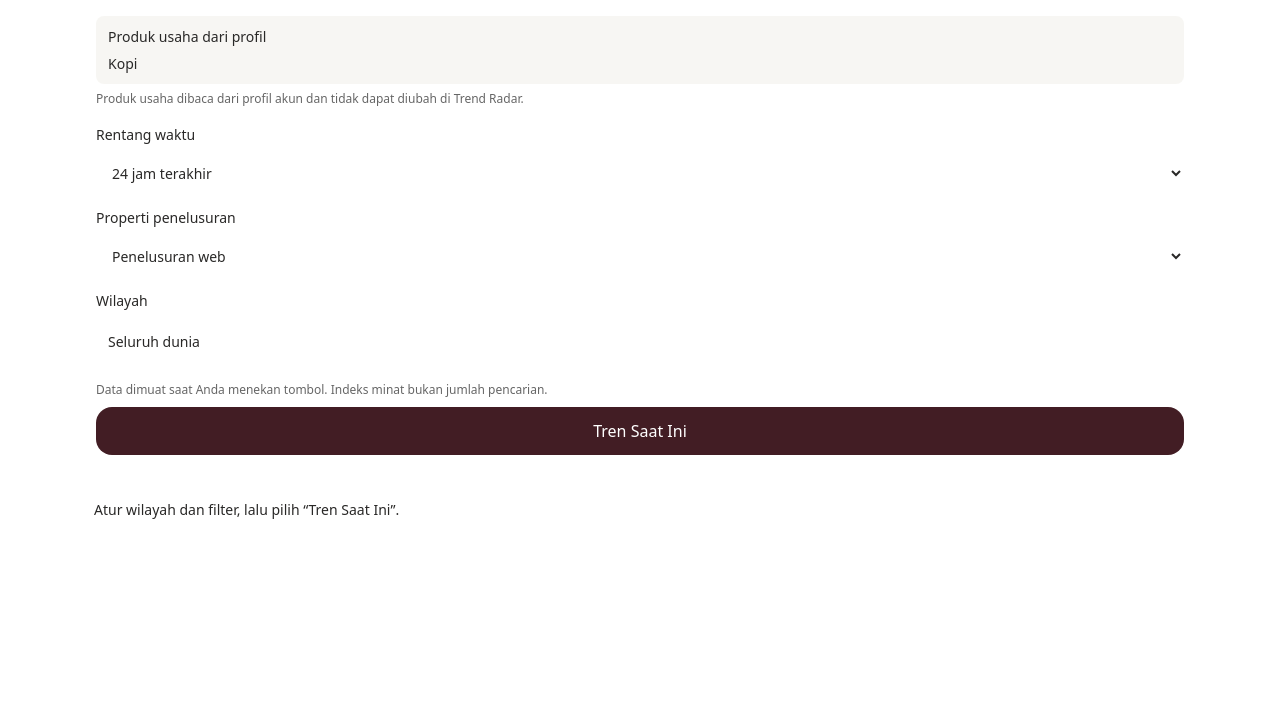
Test: TrendRadarPanel › shows loading state and prevents a duplicate request while one is active
Click the button "Tren Saat Ini": (640, 431) top-left (96, 407), bottom-right (1184, 455)
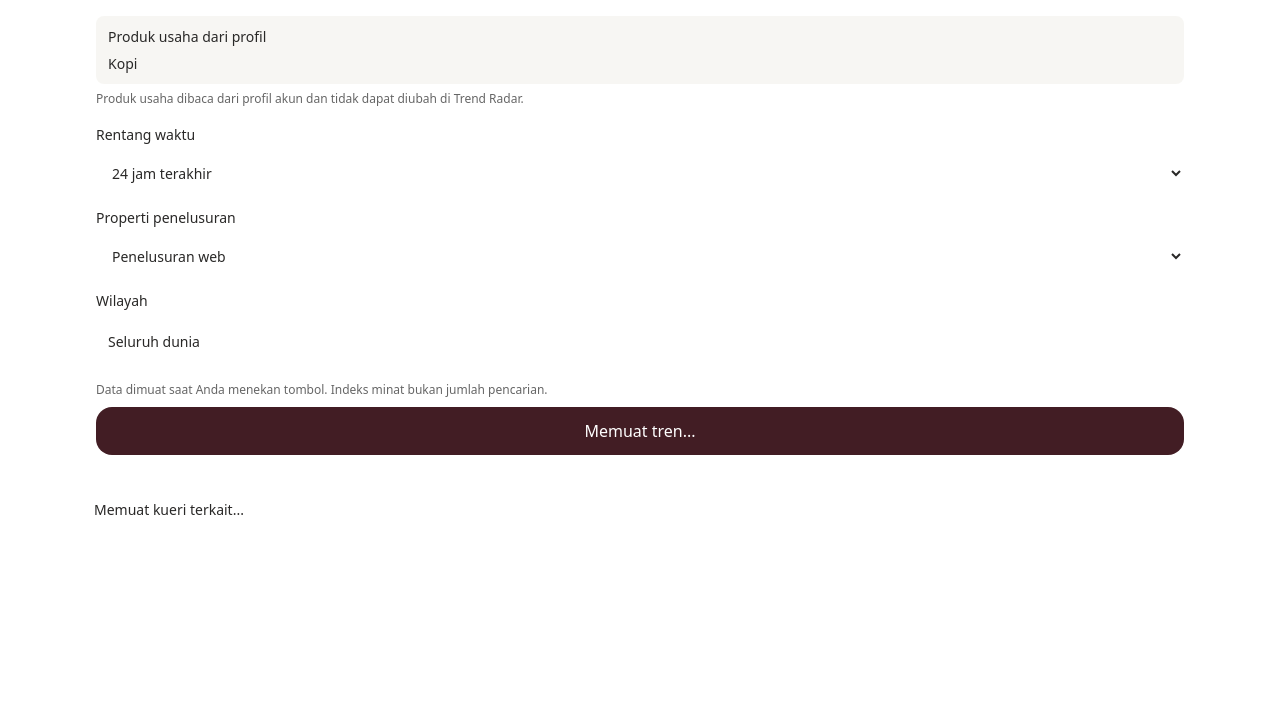
Now the button "Memuat tren..." is disabled
Now the text "Memuat kueri terkait..." is shown, box top-left (80, 487), bottom-right (1200, 532)
Click the button "Memuat tren...": (640, 431) top-left (96, 407), bottom-right (1184, 455)
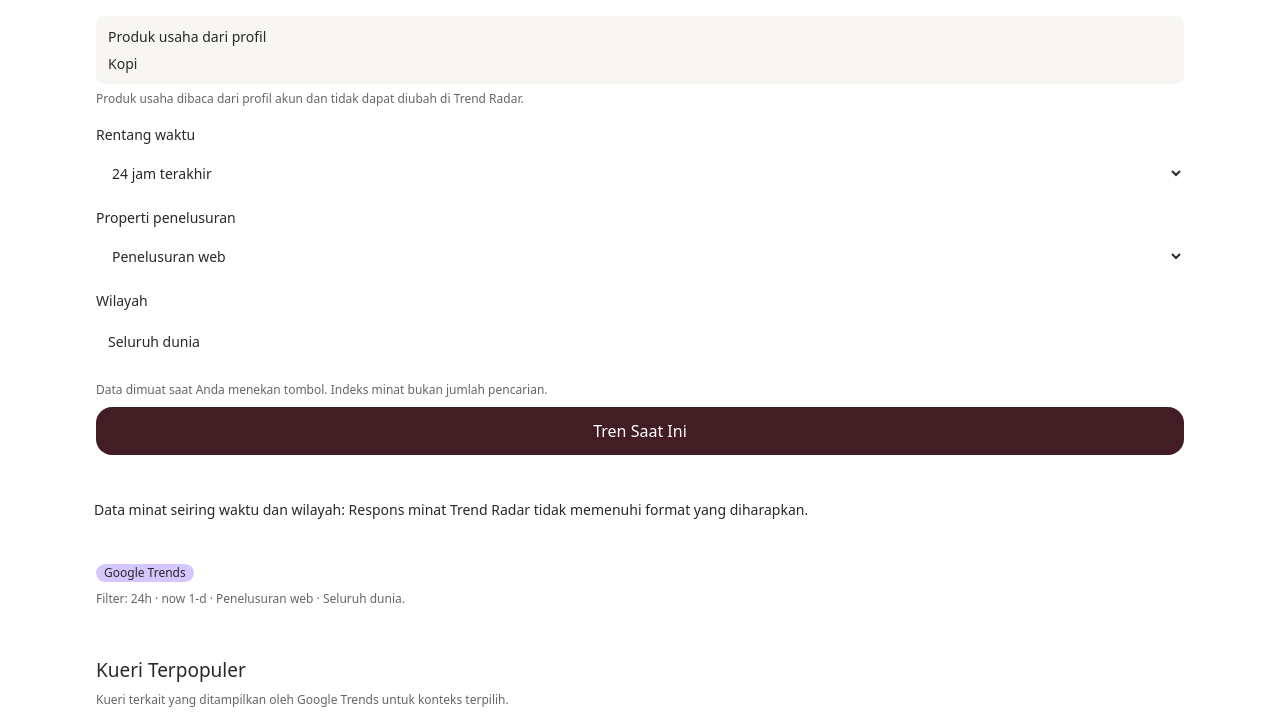
Now the heading "Kueri Terpopuler" is shown, box top-left (96, 657), bottom-right (246, 683)
